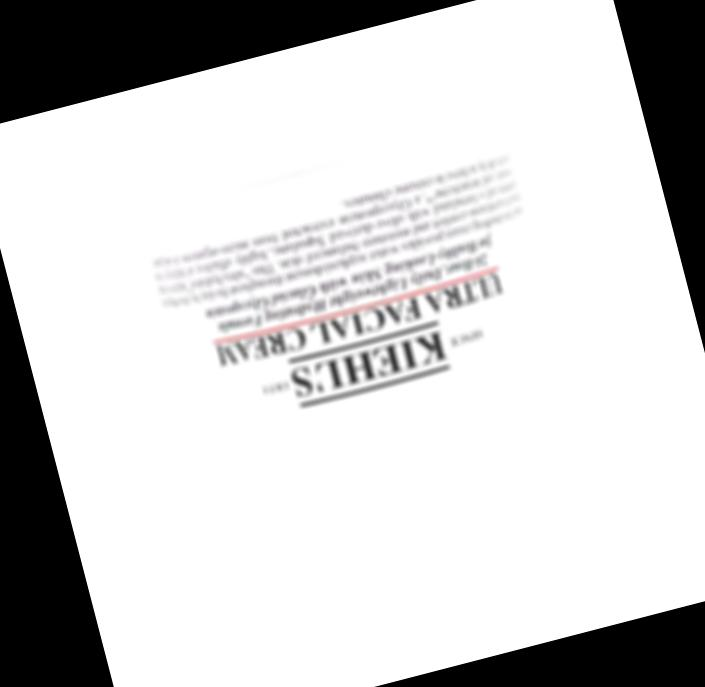cosmetic: (135, 116, 590, 524)
